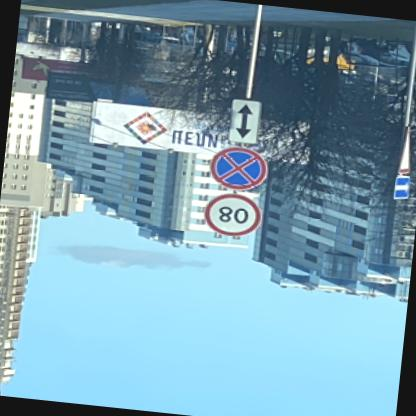speedlimit: (198, 192, 260, 238)
